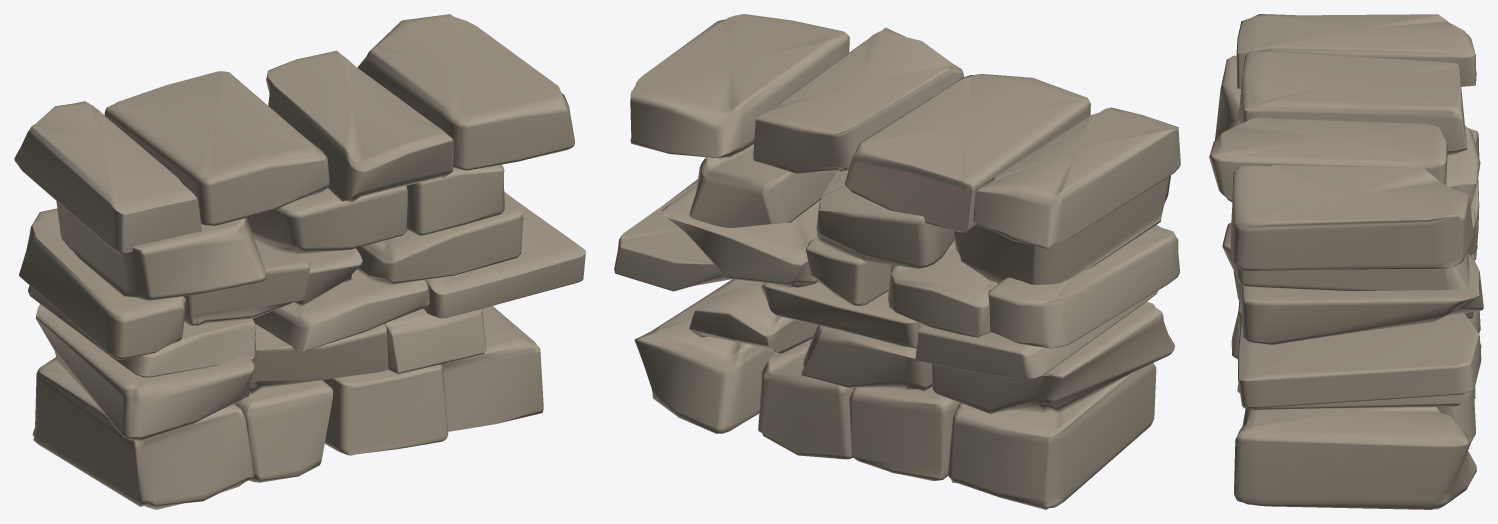
File: landscape.rock.scar_b.glb
3 views of the same model, side by side, from view 1: azimuth 30°, elevation 25°; view 2: azimuth 150°, elevation 25°; view 3: azimuth 270°, elevation 25° (orthographic). The views are drawn at different scales.
Parts seen in each view (by area): view 1: main__stone_a98; view 2: main__stone_a98; view 3: main__stone_a98.
Boxes of the visible parts, x1,y1,x2,y2 form: main__stone_a98: (14, 14, 585, 509); main__stone_a98: (614, 14, 1180, 509); main__stone_a98: (1209, 14, 1483, 509).
Size of the model in its own units: 6.49 by 4.3 by 3.43.
